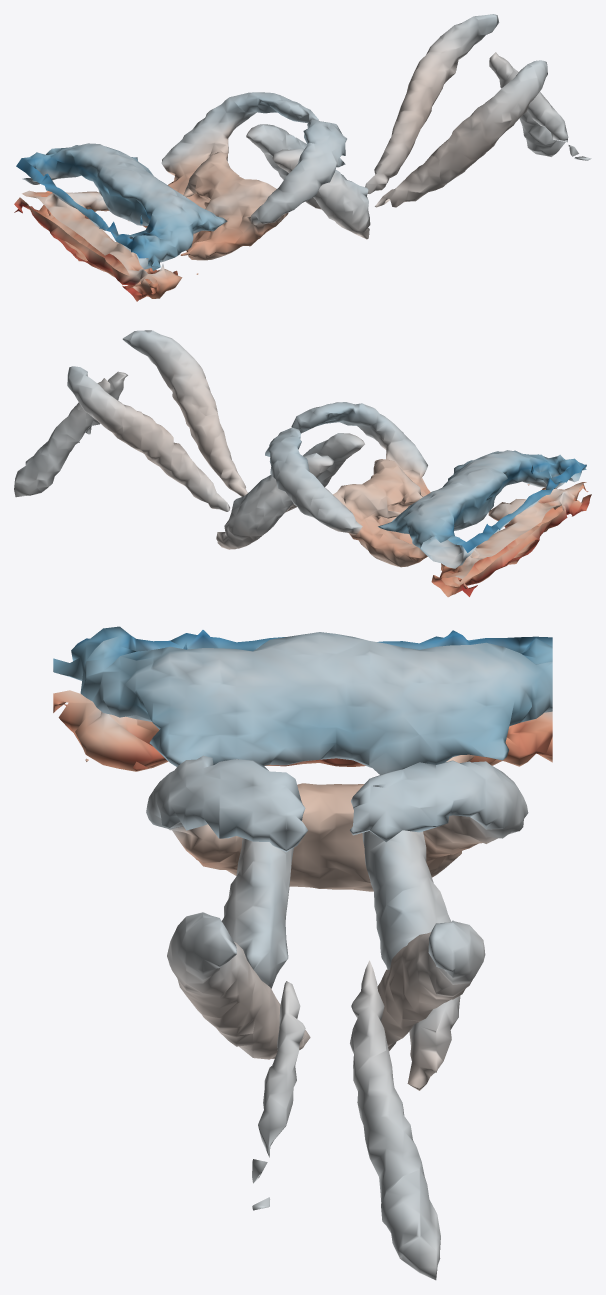
3 renders of one model, top to bottom at view 1: azimuth 30°, elevation 25°; view 2: azimuth 150°, elevation 25°; view 3: azimuth 270°, elevation 25°, orthographic. The views are drawn at different scales.
Bounding box in the file's own units: 5.64 × 1.66 × 2.5.
